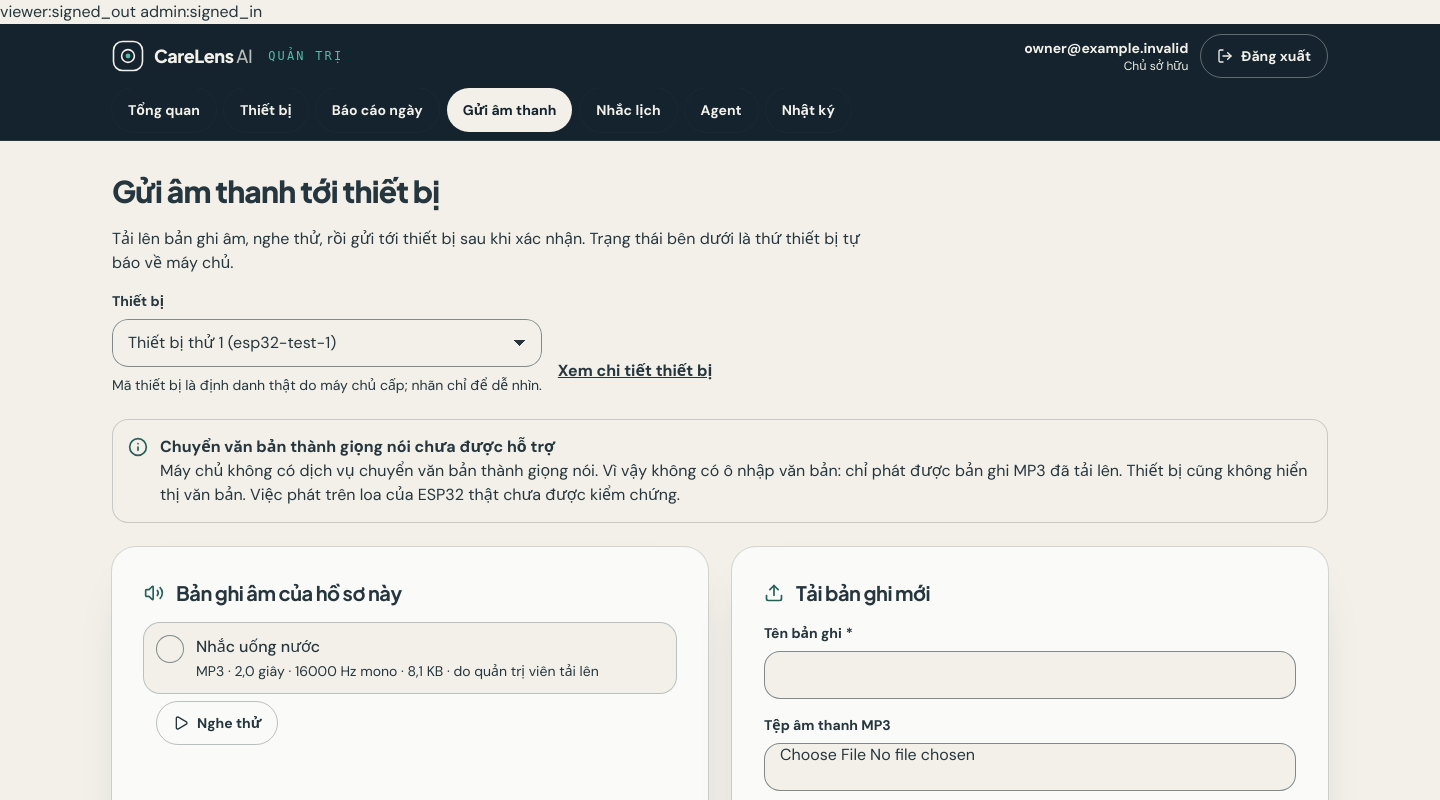
Test: audio messages › keeps the dialog and shows the reason when the server refuses, without claiming success
Click the radio button labelled "Nhắc uống nước" at (258, 646), box [144,622,676,692]
(page scrolled)
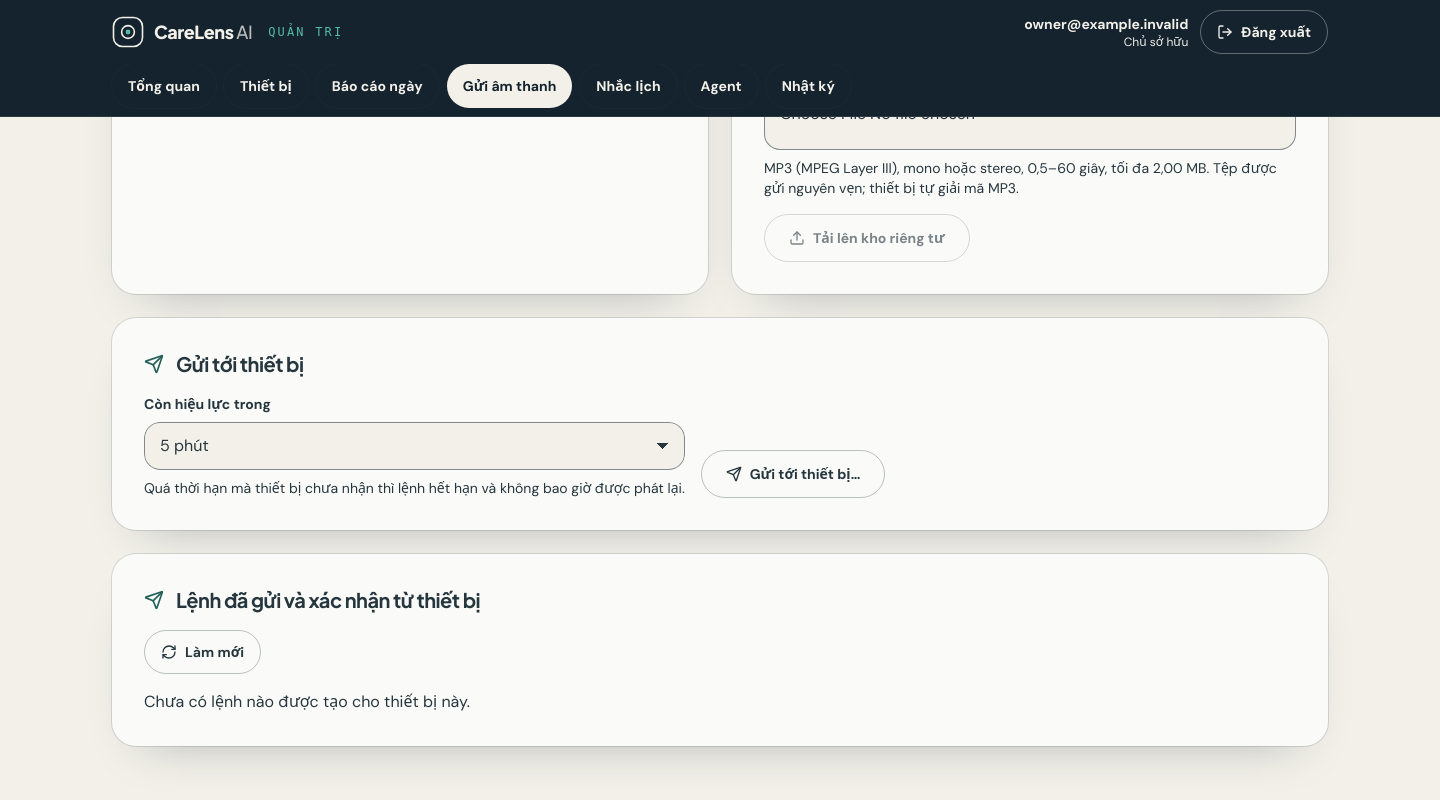
Click the button "Gửi tới thiết bị…" at (793, 474), box [701,450,885,498]
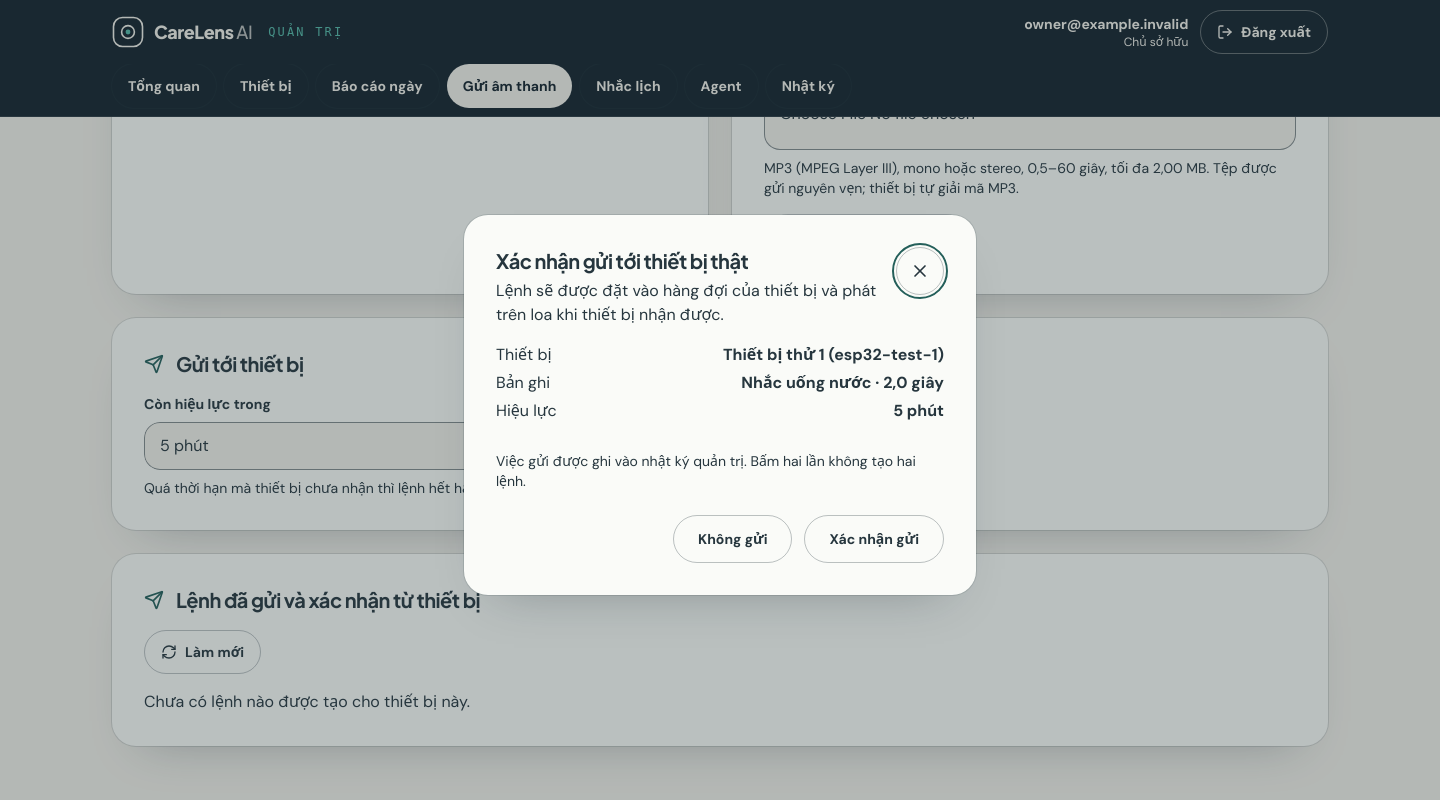
Click the button "Xác nhận gửi" at (874, 539), box [804,515,944,563]
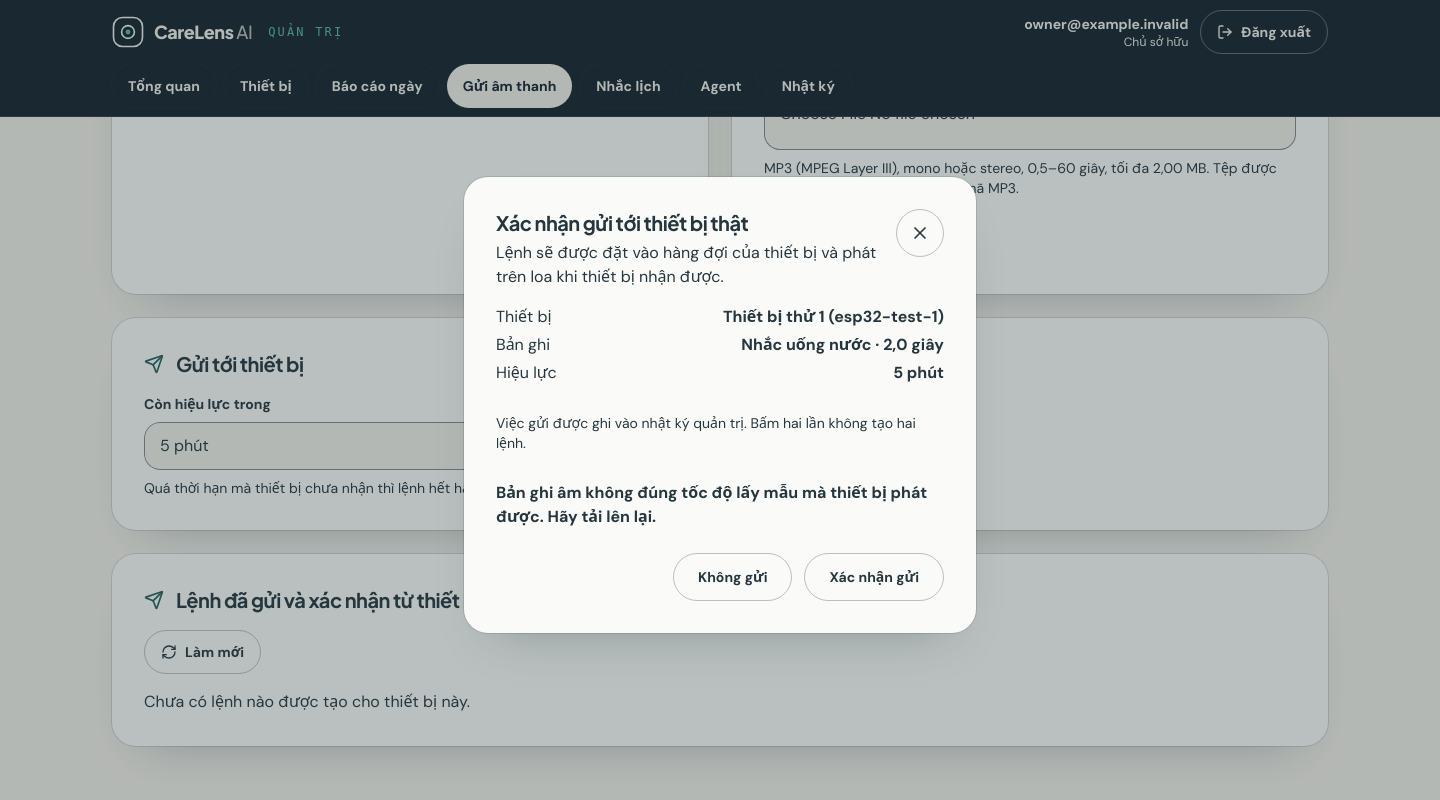
Expected: the text "Bản ghi âm không đúng tốc độ lấy mẫu mà thiết bị phát được. Hãy tải lên lại." is shown, [496,481,944,529]
